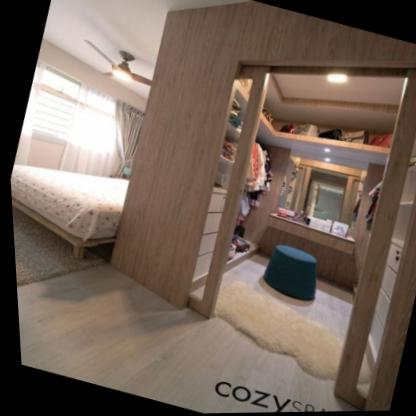Transparent Closet: (181, 60, 416, 412)
